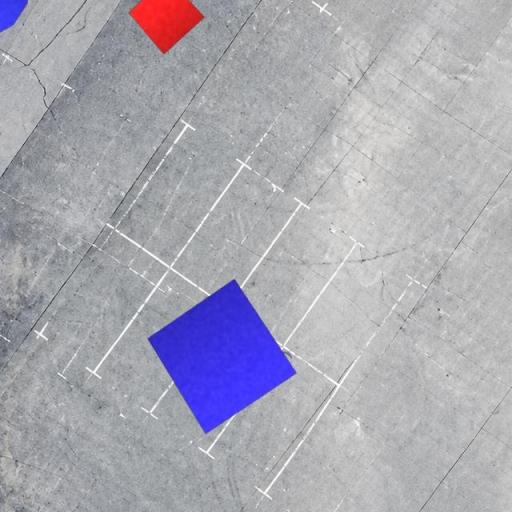BLUE_SQUARE: (147, 278, 298, 436)
RED_SQUARE: (128, 0, 206, 55)
